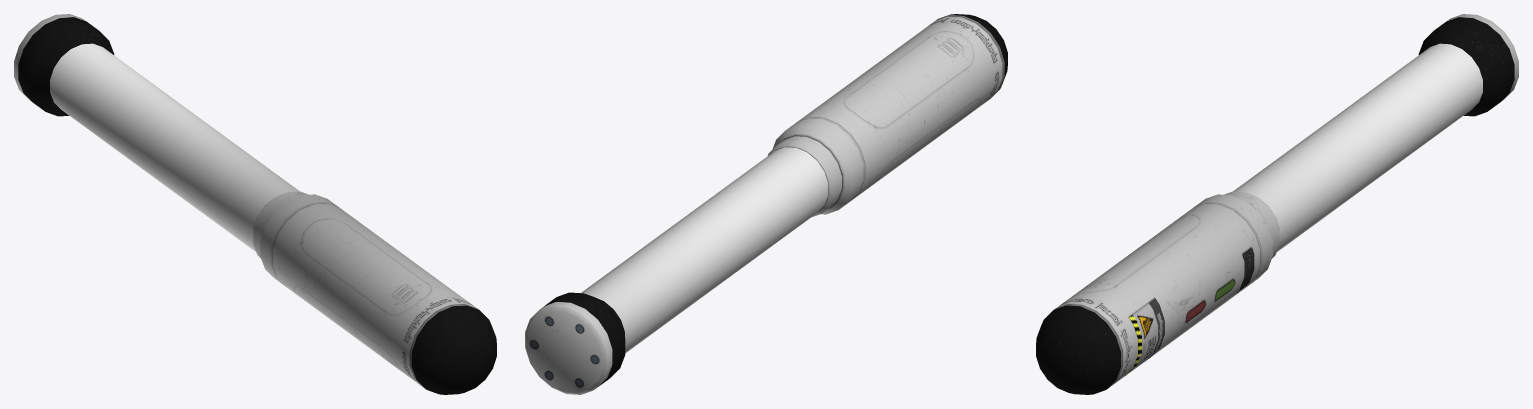
File: LampeScienceFiction.fbx
3 views of the same model, side by side, from view 1: azimuth 30°, elevation 25°; view 2: azimuth 150°, elevation 25°; view 3: azimuth 330°, elevation 25° (orthographic).
Visible parts, largest first — view 1: LampeScienceFiction; view 2: LampeScienceFiction; view 3: LampeScienceFiction.
Boxes of the visible parts, x1,y1,x2,y2 form: LampeScienceFiction: (14,14,496,394); LampeScienceFiction: (525,14,1007,394); LampeScienceFiction: (1036,14,1518,394).
Size of the model in its own units: 3.43 by 3.48 by 30.01.
Materials: 2 (1 with a texture image).
